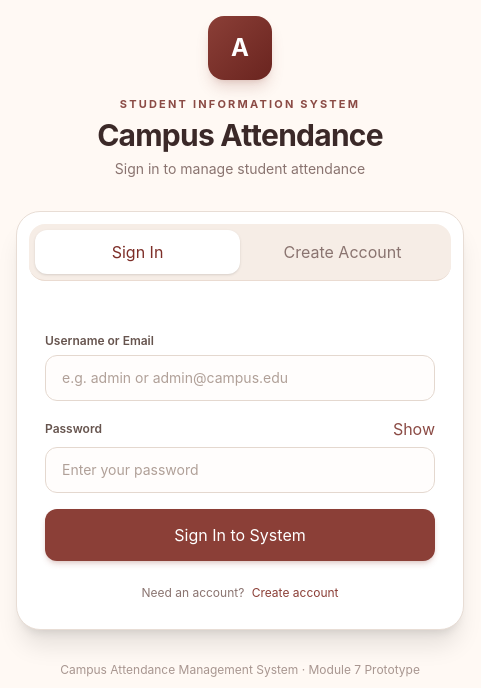
Test case: AuthView › displays an error message when login fails
The image size is (481, 688).
Type "admin" into the field named "Username or Email".
click(240, 378); type("admin")  # box [45,354,435,400]
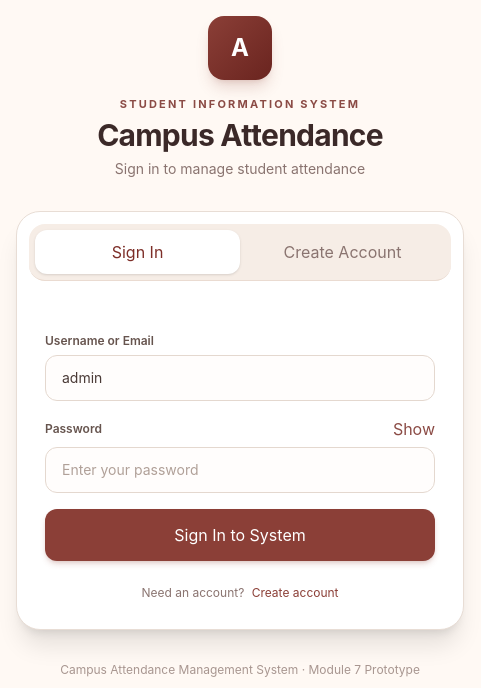
Type "wrongpass" into the password field named "Password".
click(240, 470); type("wrongpass")  # box [45,446,435,492]
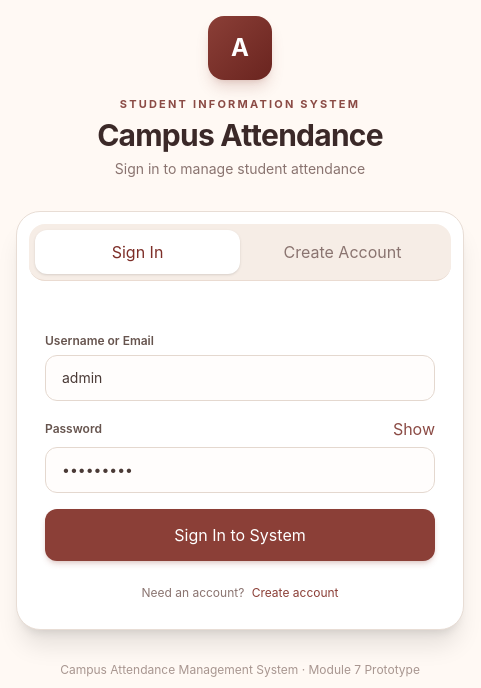
Submit the form, box [45,332,435,560]
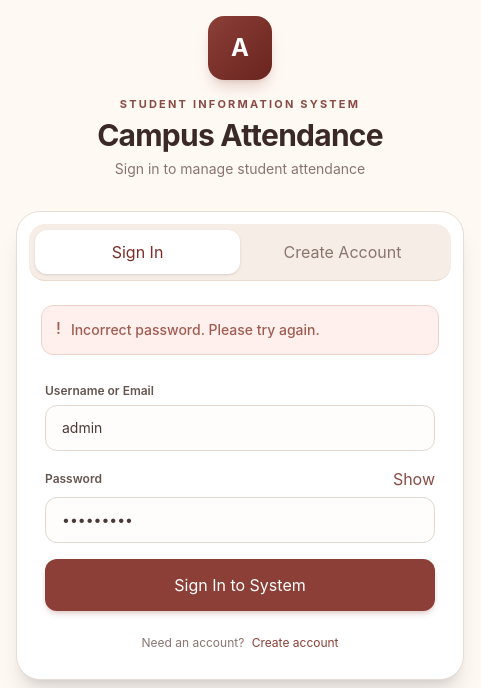
Result: the text "Incorrect password. Please try again." is shown at [71,320,320,338]
